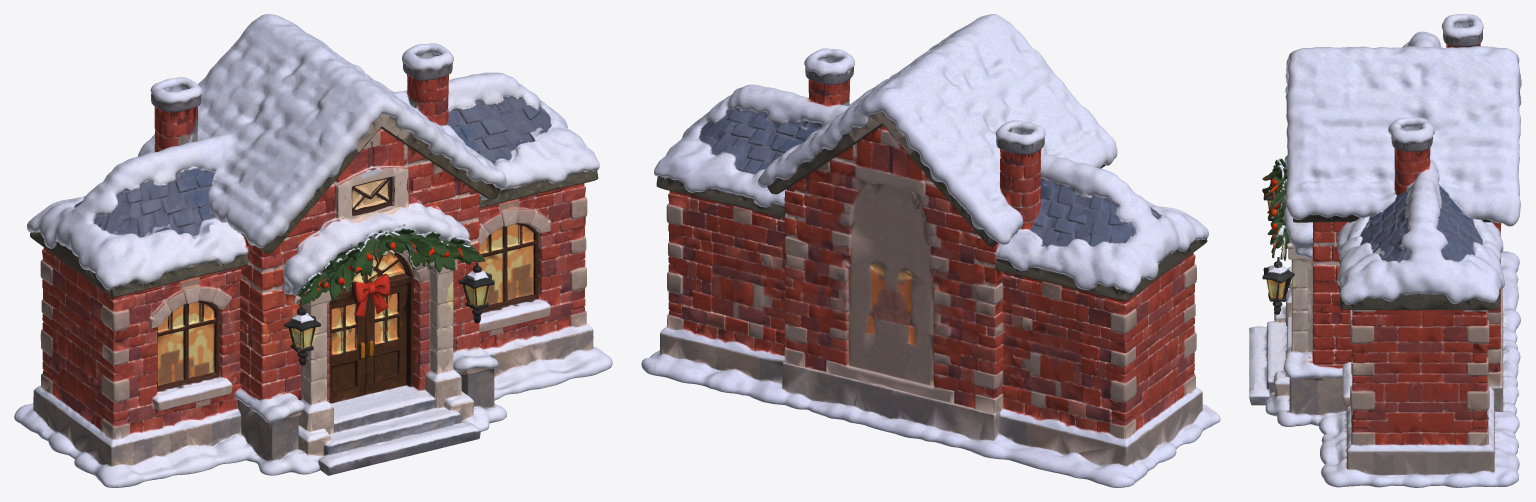
The model's file is post-office-meshy-mobile.glb.
3 renders of one model, left to right at view 1: azimuth 30°, elevation 25°; view 2: azimuth 150°, elevation 25°; view 3: azimuth 270°, elevation 25°, orthographic. The views are drawn at different scales.
Size of the model in its own units: 1.9 by 1.23 by 0.941.
1 material, 1 textured.
